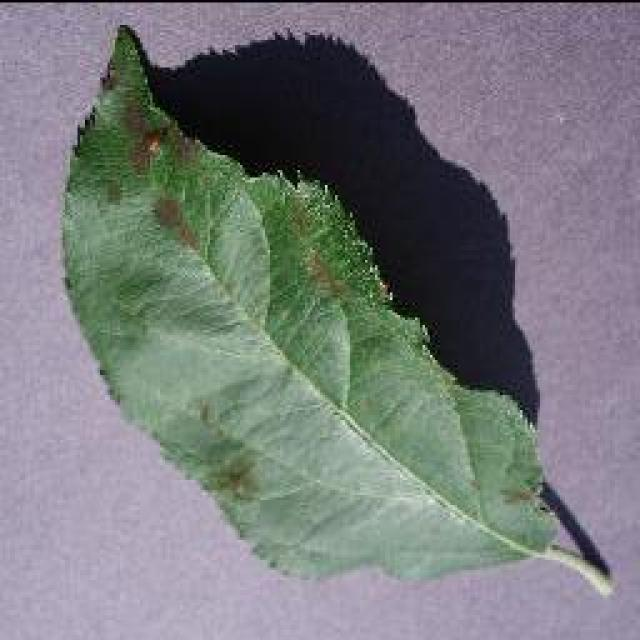apple scab disease: (58, 20, 612, 595)
